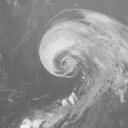cyclone: (38, 8, 92, 80)
